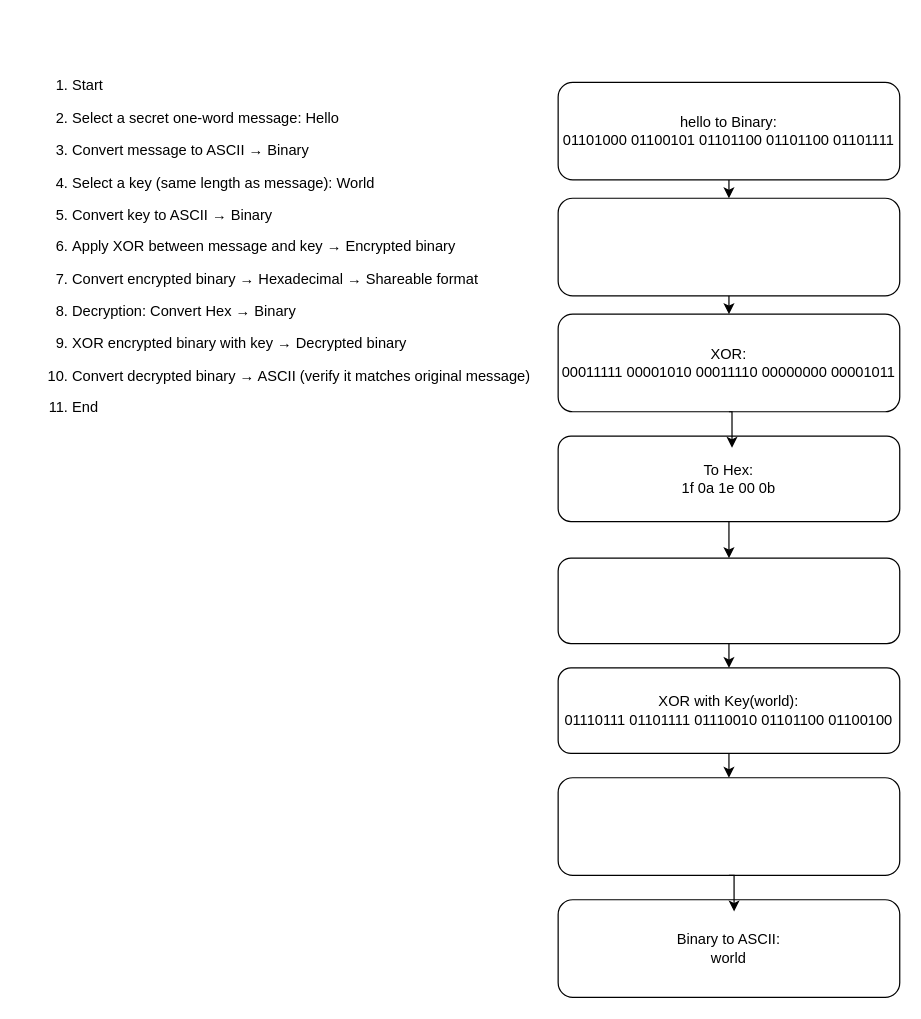
This 921x1019 diagram has some shape labels left out. The centre of each missing label's shape, as x and y in pixels:
"Hex to Binary: 00011111 00001010 00011110 00000000 00001011" goes at point (728, 600).
"Result of XOR: 01101000 01100101 01101100 01101100 01101111" goes at point (728, 826).
"world to Binary: 01110111 01101111 01110010 01101100 01100100" goes at point (728, 246).
